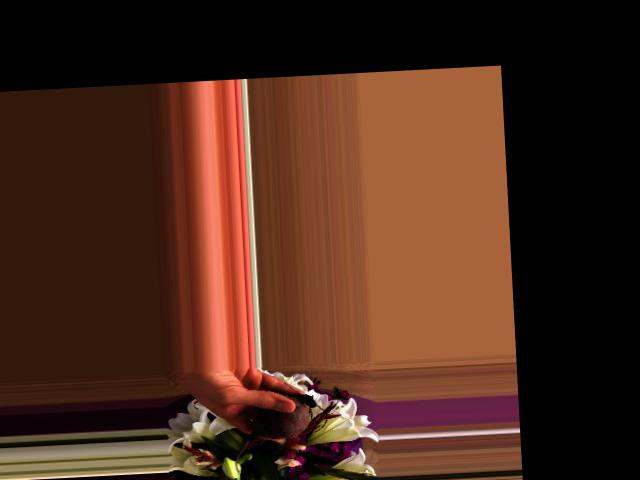beet: (232, 391, 330, 472)
